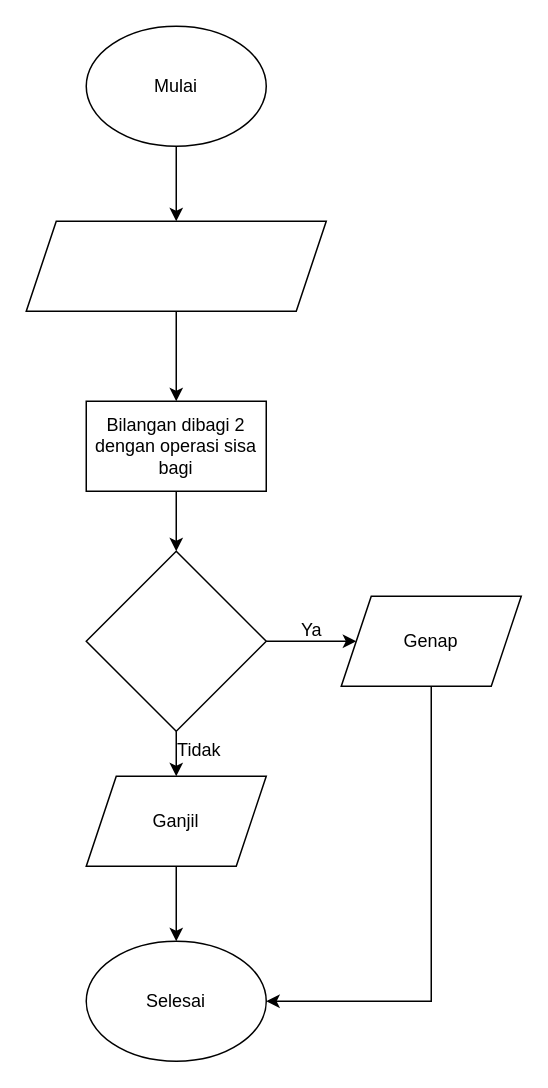
Image size: 548x1088. Some labels were removed from this diagram. The shapes that lost their labels are listed below. From the top down, each one's centre as x and y in pixels, then its label:
At pixel 175 265: "Masukan Bilangan bulat".
At pixel 175 640: "? sisa bagi = 0".
